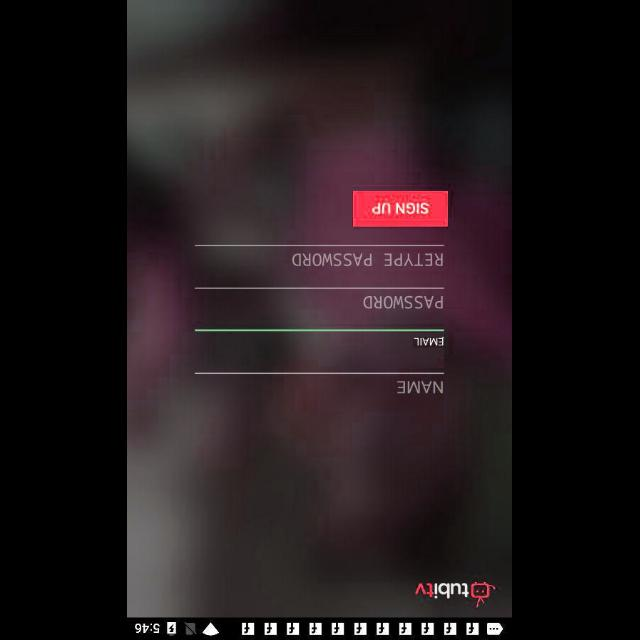image: (415, 580, 497, 608)
input: (195, 244, 445, 266), (195, 287, 445, 309), (195, 372, 445, 394), (195, 328, 445, 346)
text: (292, 253, 443, 267), (363, 295, 442, 309), (396, 380, 444, 394), (414, 336, 444, 346)
textbutton: (354, 191, 448, 227)
uppertaskbar: (128, 617, 512, 639)
